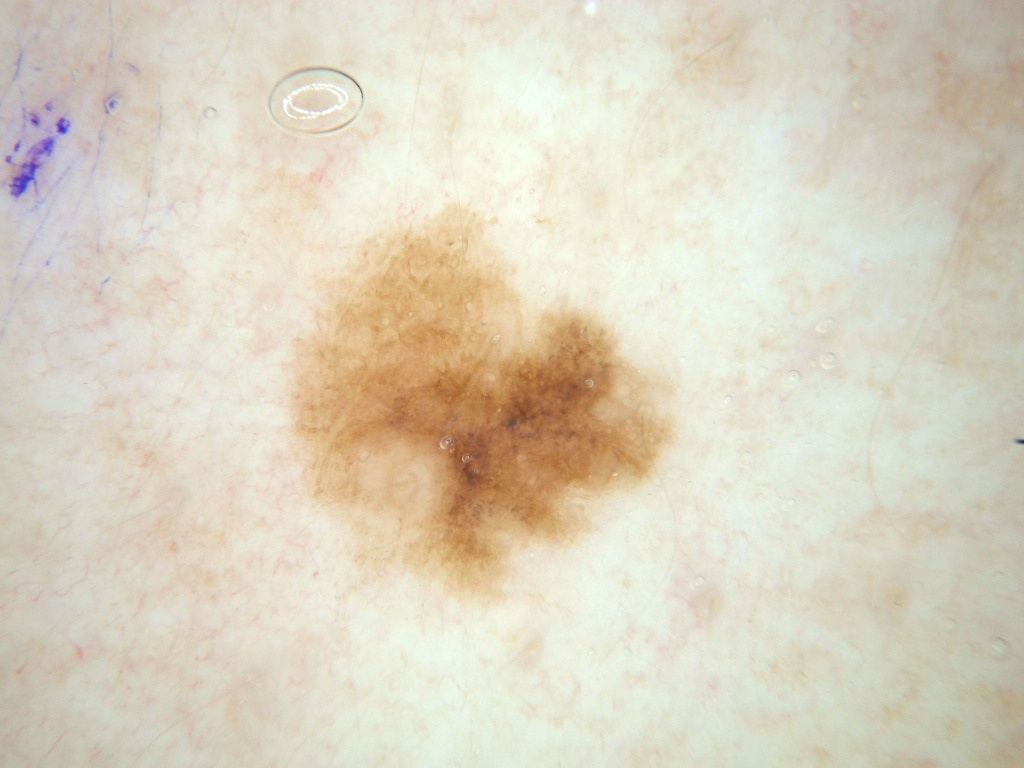Detected Lesion: (275, 196, 685, 598)
